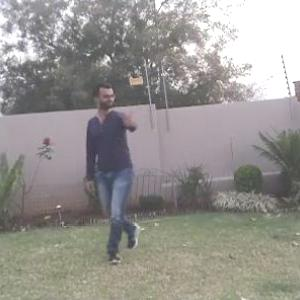takeoff-hand: (116, 103, 139, 133)
